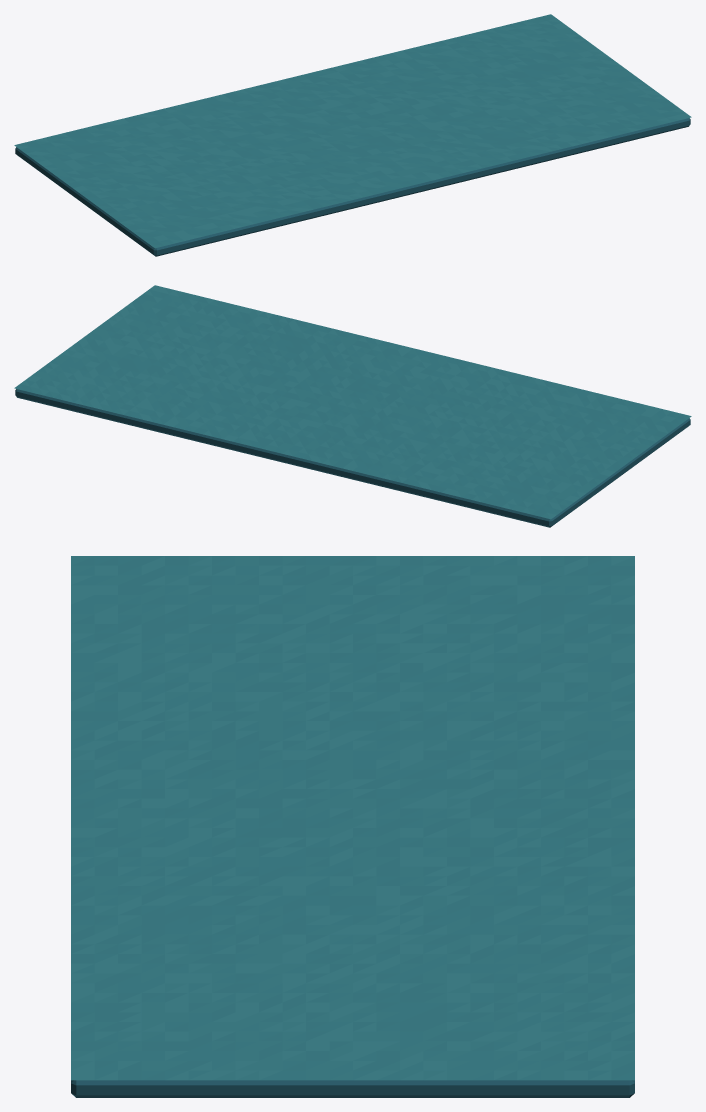
File: water.glb
The picture shows the model from 3 angles, top to bottom: view 1: azimuth 30°, elevation 25°; view 2: azimuth 150°, elevation 25°; view 3: azimuth 270°, elevation 25°; orthographic projection. The views are drawn at different scales.
Visible parts, largest first — view 1: faceted_indian_ocean, ocean_board_plinth; view 2: faceted_indian_ocean, ocean_board_plinth; view 3: faceted_indian_ocean, ocean_board_plinth.
Part boxes in pixels (x1,y1,x2,y2): faceted_indian_ocean: (14, 14, 691, 248); ocean_board_plinth: (15, 118, 690, 256); faceted_indian_ocean: (14, 285, 691, 519); ocean_board_plinth: (15, 389, 690, 527); faceted_indian_ocean: (71, 556, 634, 1080); ocean_board_plinth: (71, 1080, 634, 1097).
Size of the model in its own units: 44 by 0.775 by 20.
